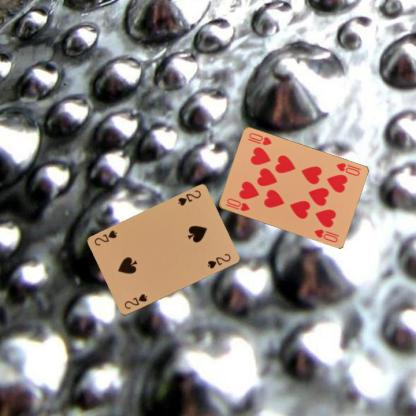10h: (334, 160, 361, 177), (223, 196, 251, 212)
2s: (175, 188, 202, 207), (122, 291, 148, 310)
